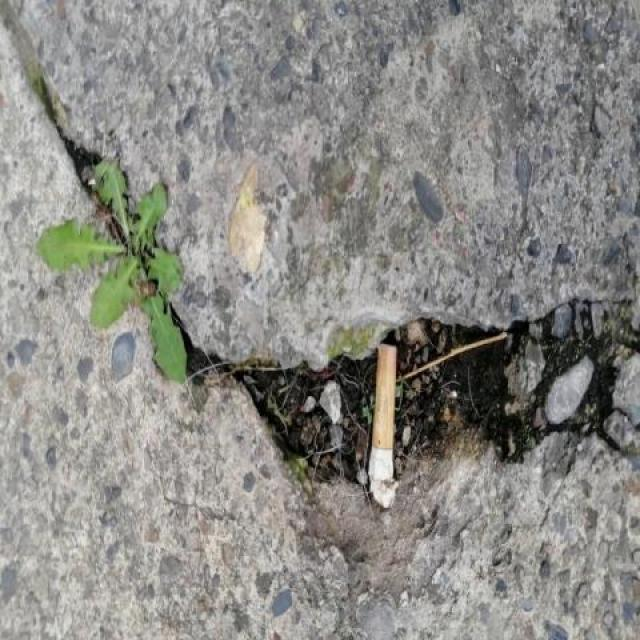non-organic waste: (352, 330, 412, 515)
